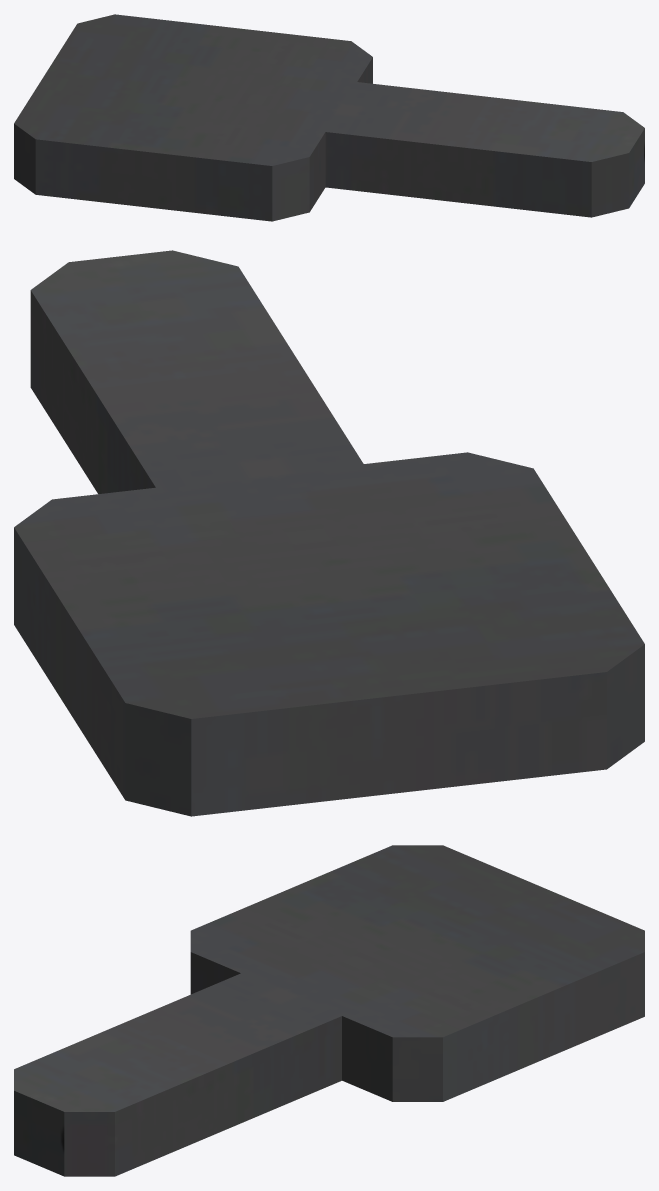
Rendered from key.fbx.
3 renders of one model, top to bottom at view 1: azimuth 30°, elevation 25°; view 2: azimuth 150°, elevation 25°; view 3: azimuth 270°, elevation 25°, orthographic. The views are drawn at different scales.
Visible parts, largest first — view 1: key.001; view 2: key.001; view 3: key.001.
Part boxes in pixels (<box>): key.001: <box>14,14,644,221</box>; key.001: <box>14,250,644,816</box>; key.001: <box>14,845,644,1176</box>.
Size of the model in its own units: 0.0588 by 0.00665 by 0.0588.
Materials: 1 (1 with a texture image).
